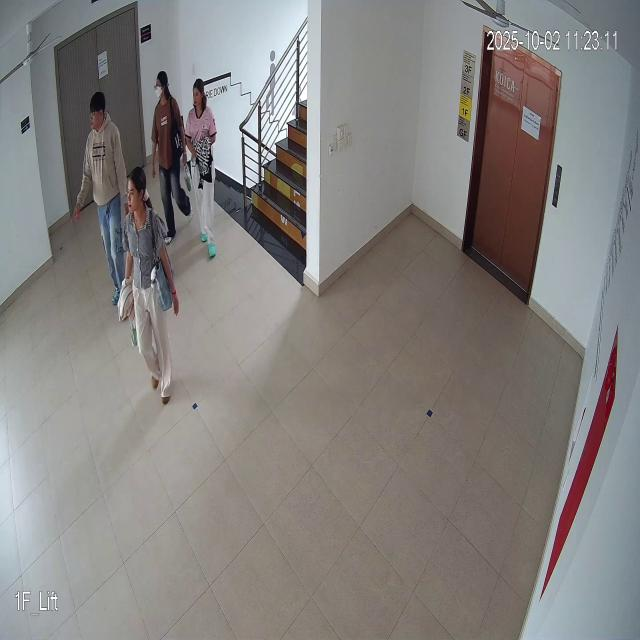face: (125, 169, 148, 213)
